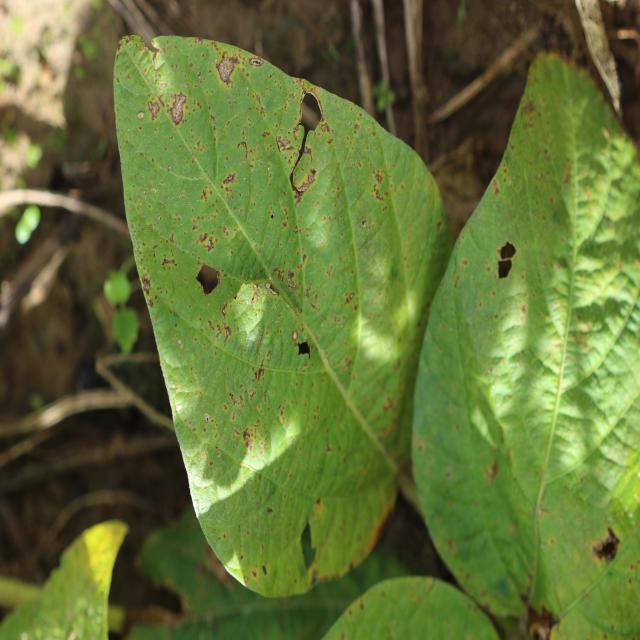Bacterial_Blight: (178, 156, 311, 329), (50, 590, 101, 639), (527, 604, 559, 640), (164, 88, 190, 132), (592, 525, 621, 563), (195, 262, 221, 296), (292, 166, 317, 198), (497, 240, 516, 280), (241, 422, 263, 454), (216, 55, 237, 84), (221, 300, 235, 341), (235, 138, 256, 163), (195, 231, 217, 253), (485, 460, 499, 484), (371, 180, 386, 202), (276, 134, 292, 152), (147, 100, 160, 121), (521, 101, 537, 118), (162, 255, 177, 270), (140, 274, 151, 294), (388, 265, 400, 283), (222, 172, 236, 186), (149, 39, 160, 54), (249, 57, 264, 67), (315, 499, 324, 514), (303, 145, 313, 158), (320, 122, 330, 134), (493, 181, 500, 196), (417, 440, 425, 453), (537, 506, 546, 517), (261, 564, 268, 577), (445, 466, 452, 478), (519, 305, 526, 315), (137, 111, 145, 119), (267, 506, 274, 515), (354, 123, 360, 133), (361, 218, 367, 228), (461, 259, 467, 268), (251, 569, 257, 578), (243, 575, 249, 584), (204, 414, 210, 423), (177, 339, 183, 346), (270, 213, 274, 219), (494, 313, 498, 319)
Soybean: (115, 38, 452, 597), (412, 54, 640, 638)
